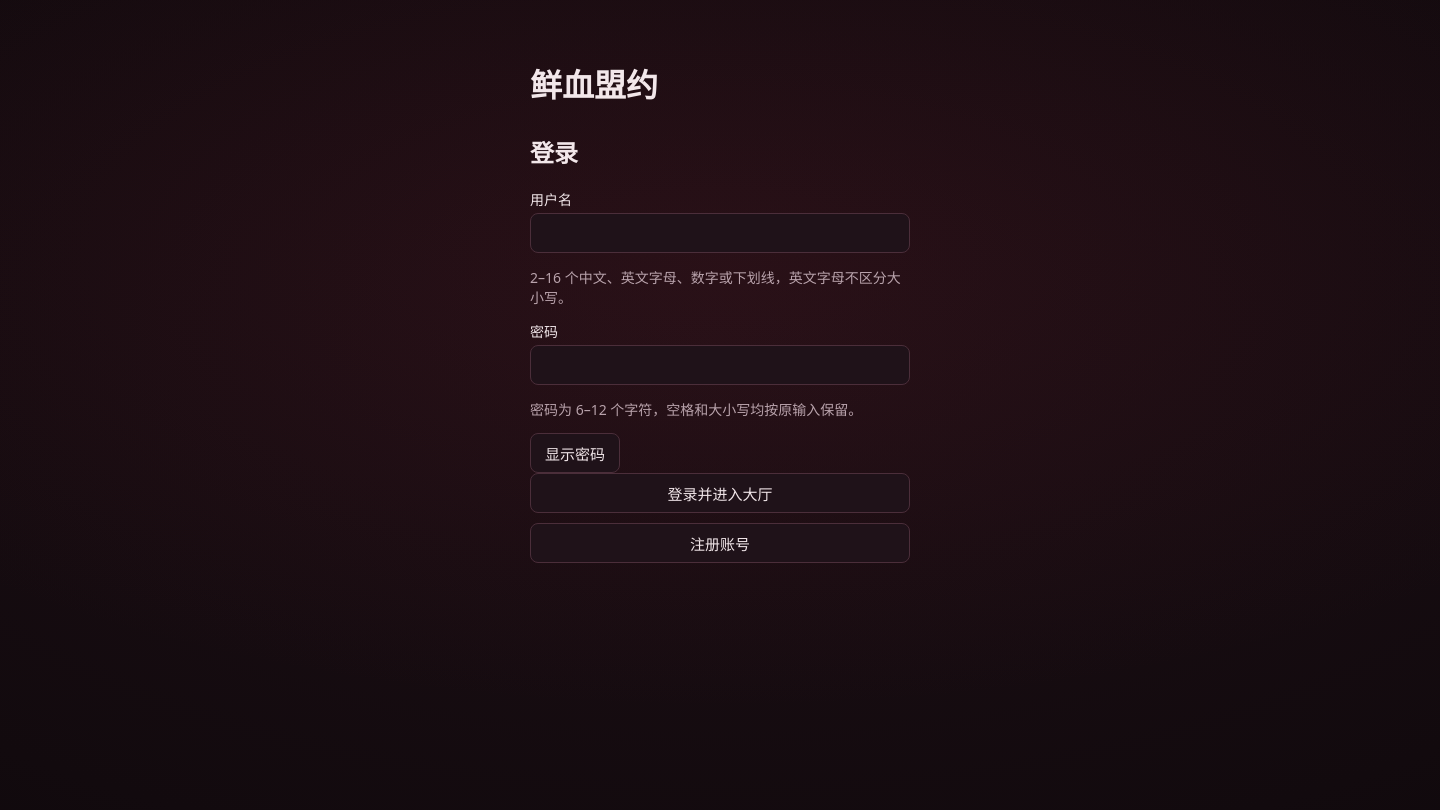
Test case: 默认登录可切注册；提交中不能重复注册，成功显示账号并进入大厅
Expected: the heading "登录" is shown, [530,141,578,167]
Expected: the button "创建房间" is not shown
Click the button "注册账号": (720,543) [530,523,910,563]
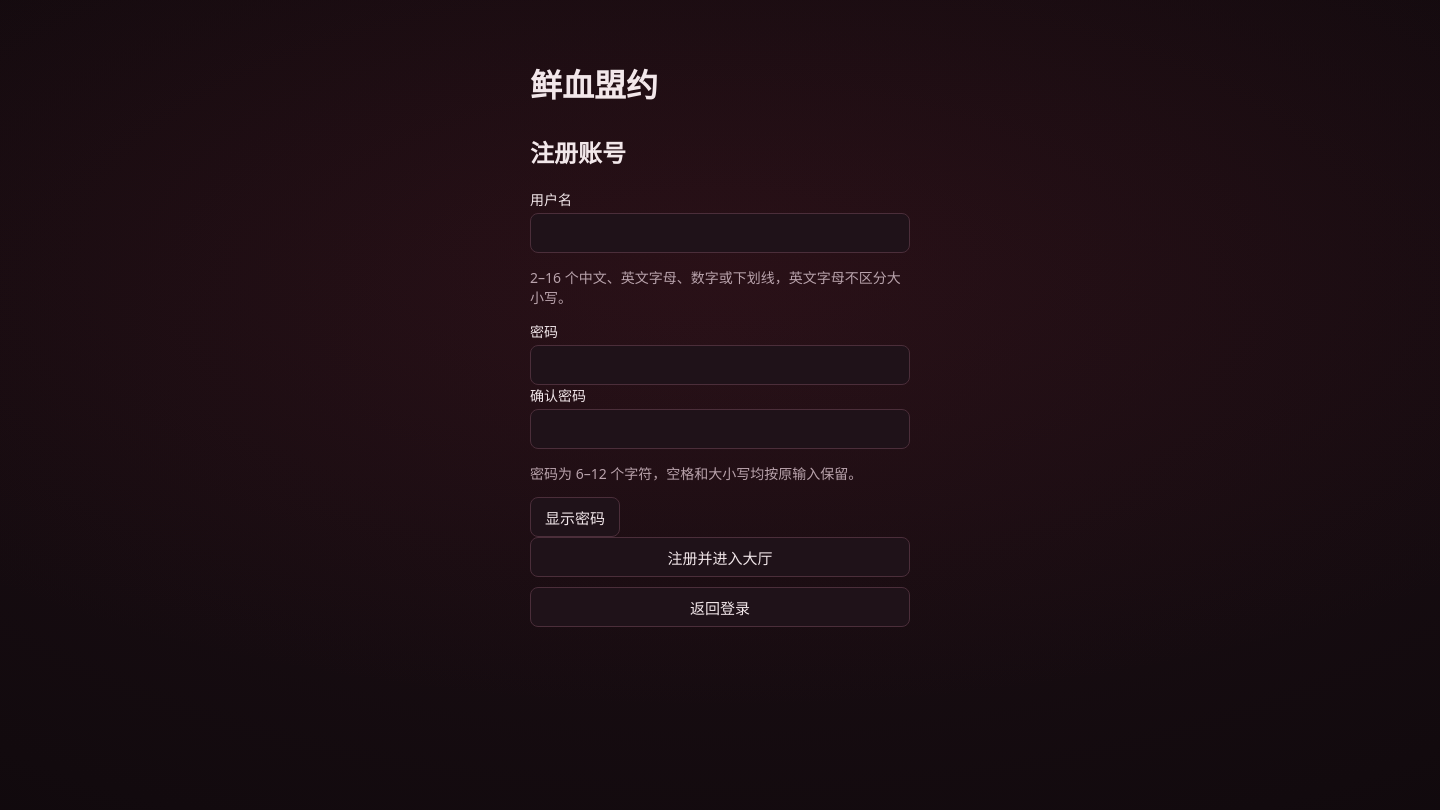
In the field labelled "用户名": (720,233) [530,213,910,253], type "中文Alice"
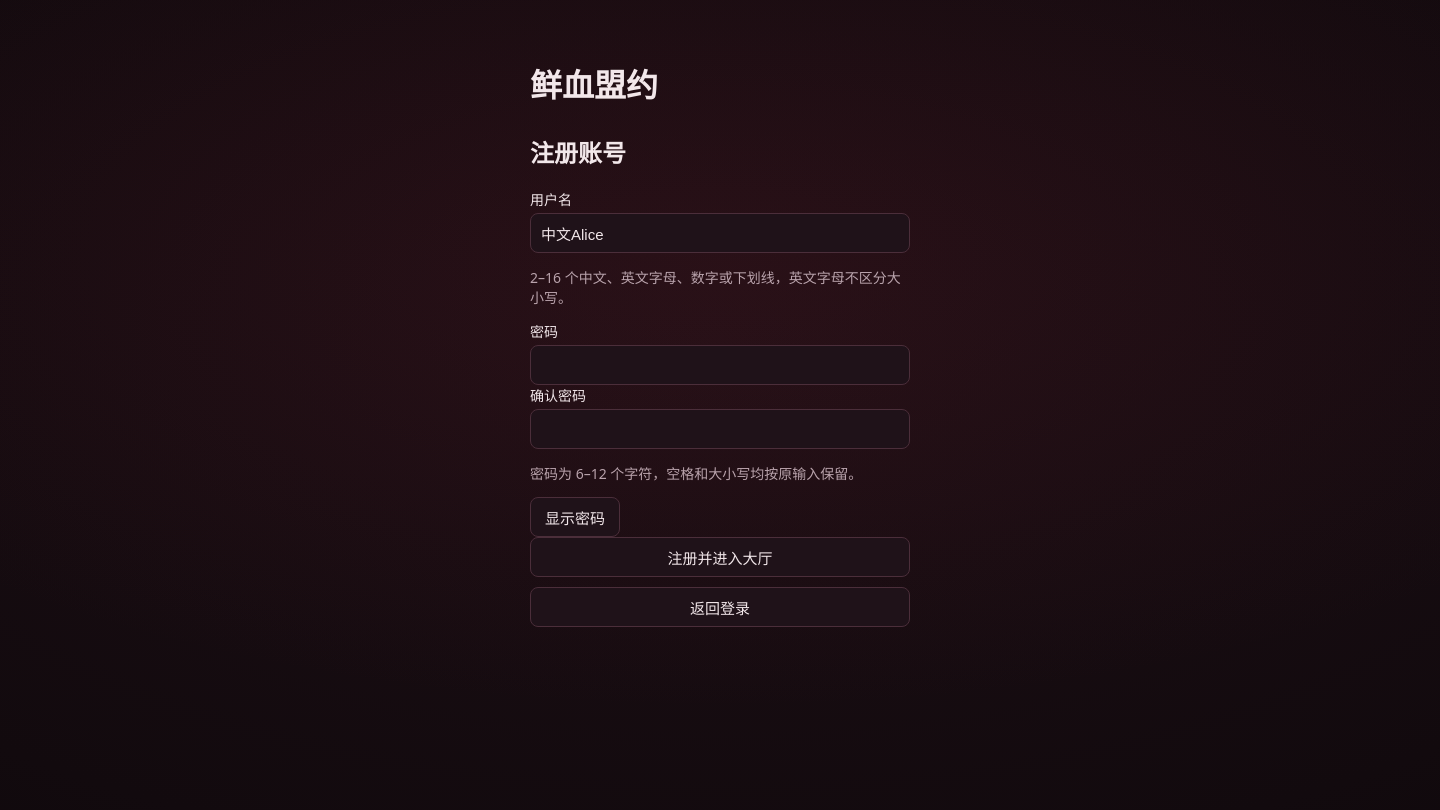
In the password field labelled "密码": (720,365) [530,345,910,385], type " Ab12 "
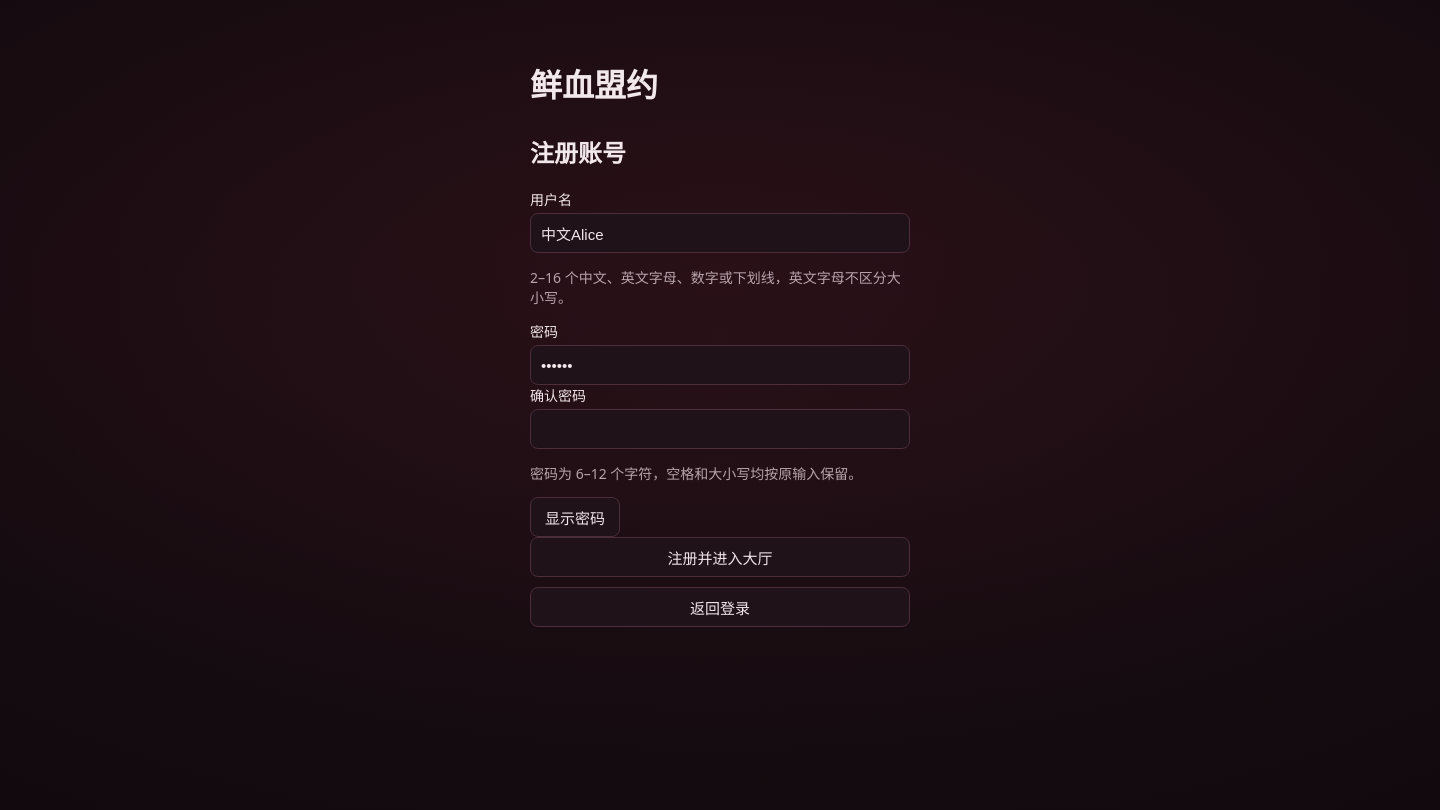
In the password field labelled "确认密码": (720,429) [530,409,910,449], type " Ab12 "
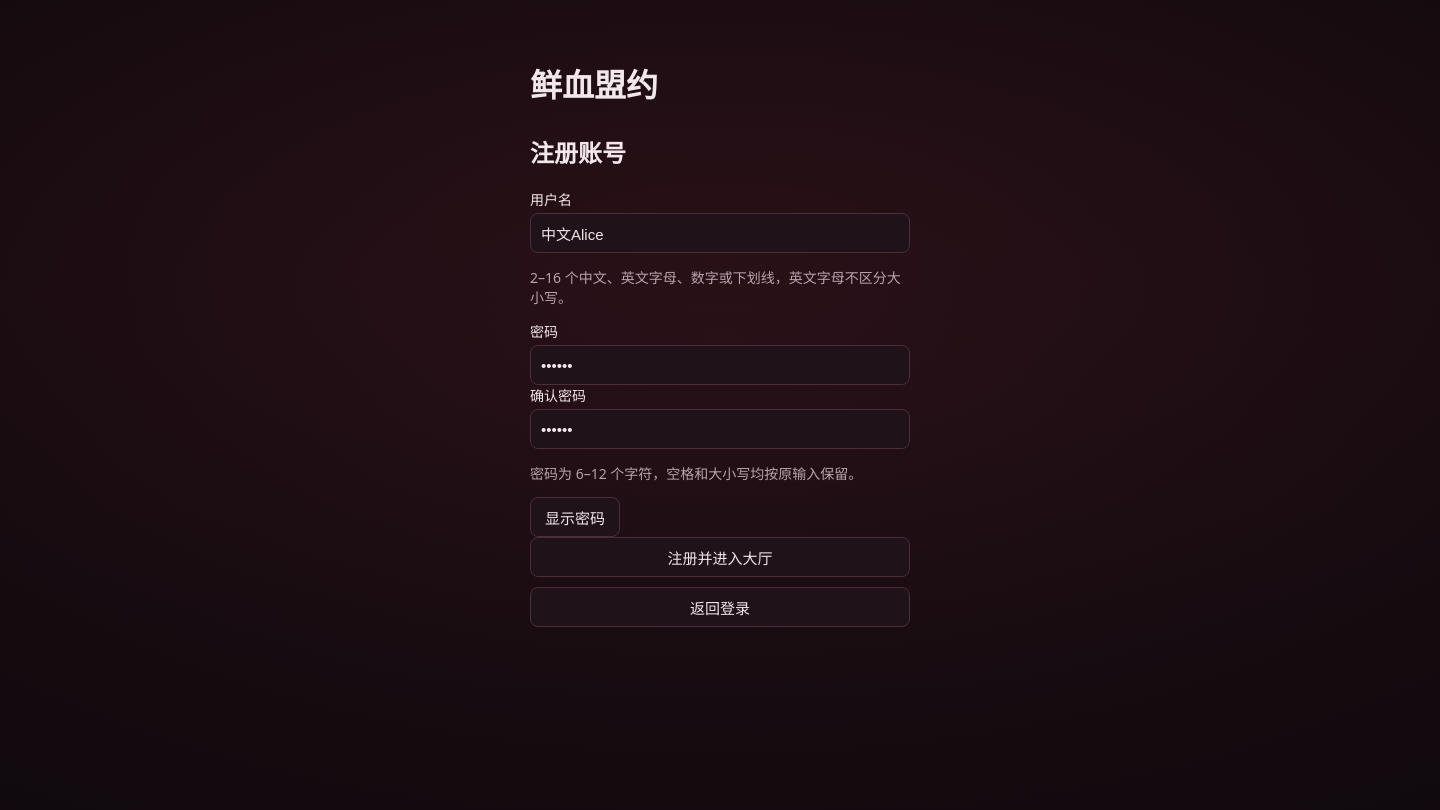
Click the button "注册并进入大厅": (720,557) [530,537,910,577]
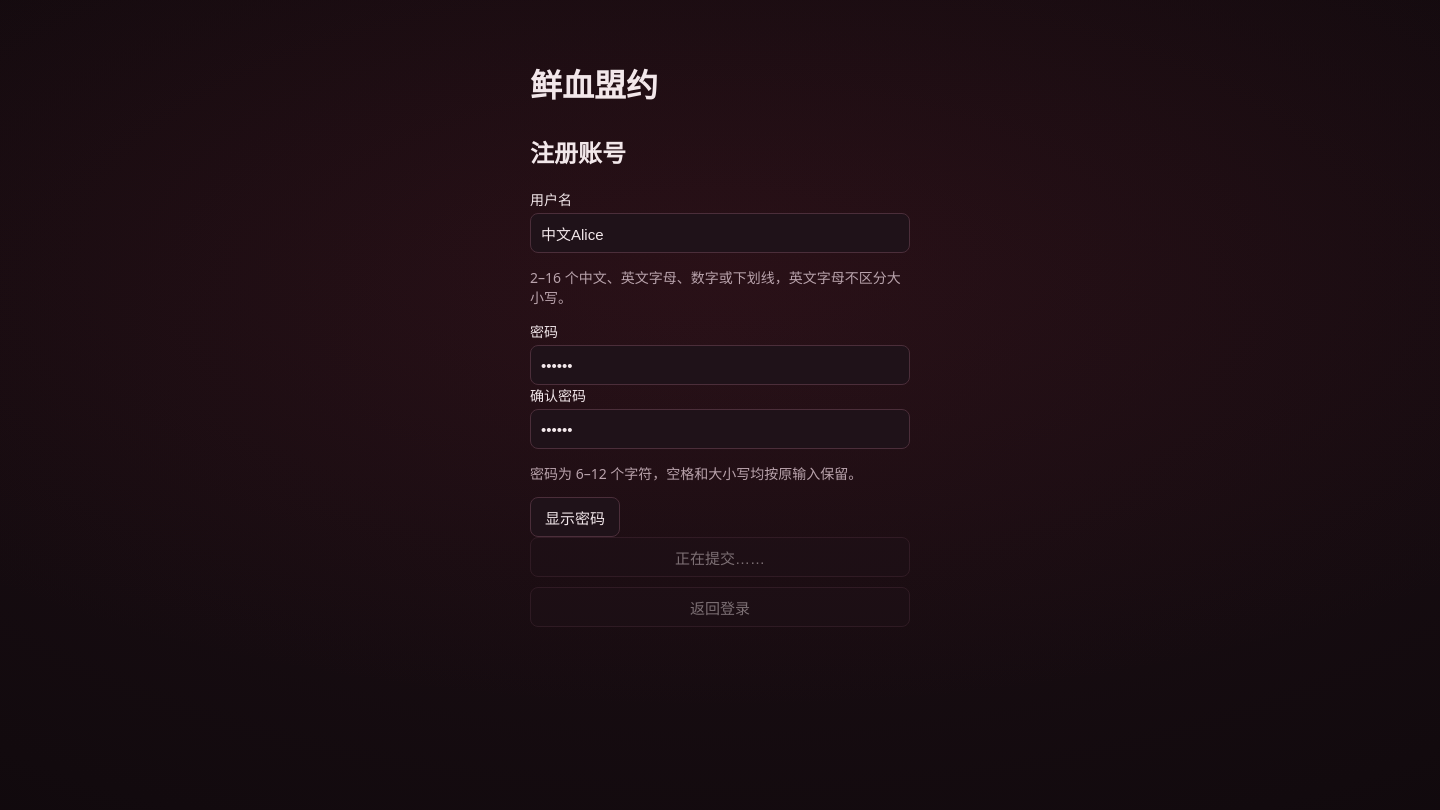
Now the button "正在提交……" is disabled
Click the button "正在提交……": (720,557) [530,537,910,577]
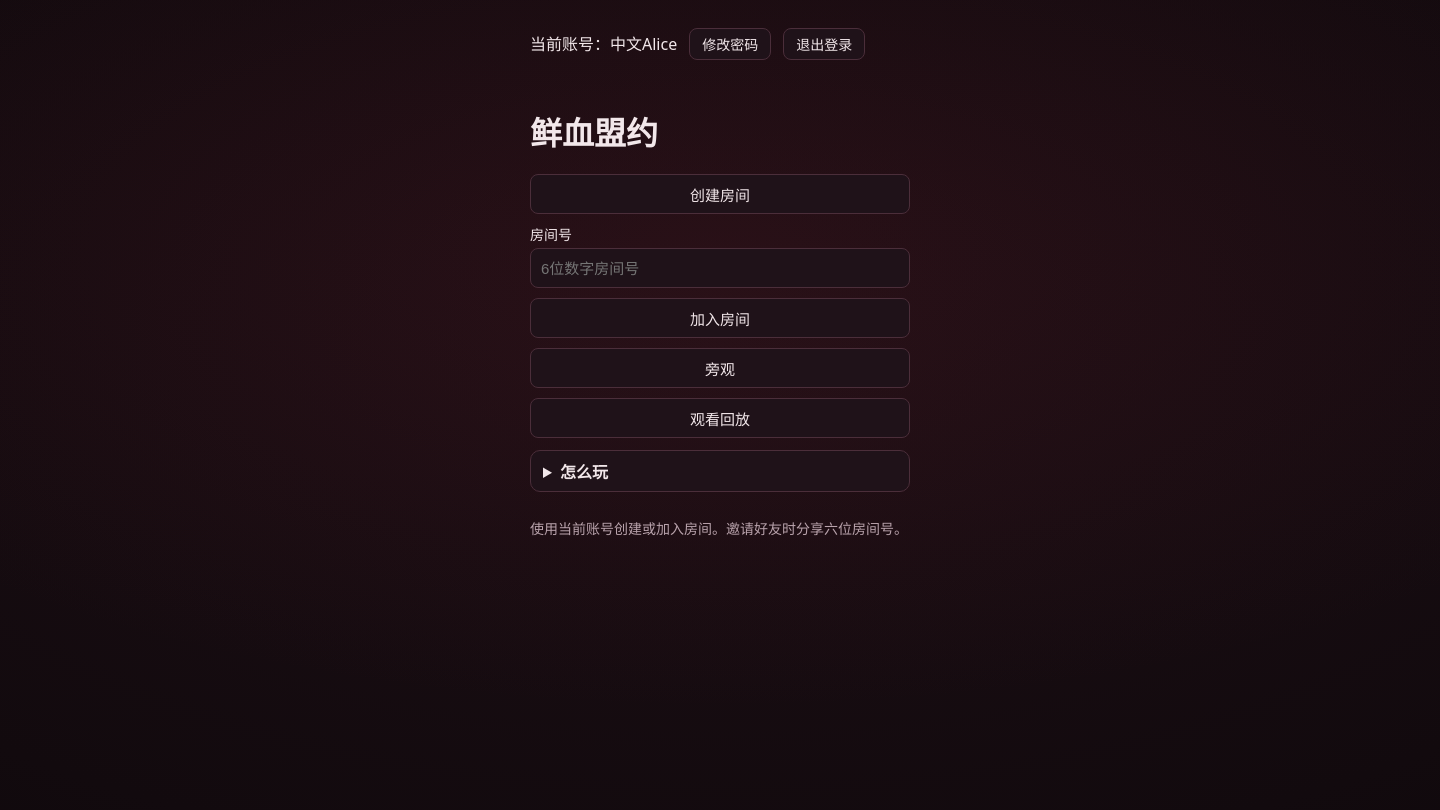
Now the text "当前账号：中文Alice" is shown, box [530,28,910,60]
Now the button "创建房间" is shown, box [530,174,910,214]
